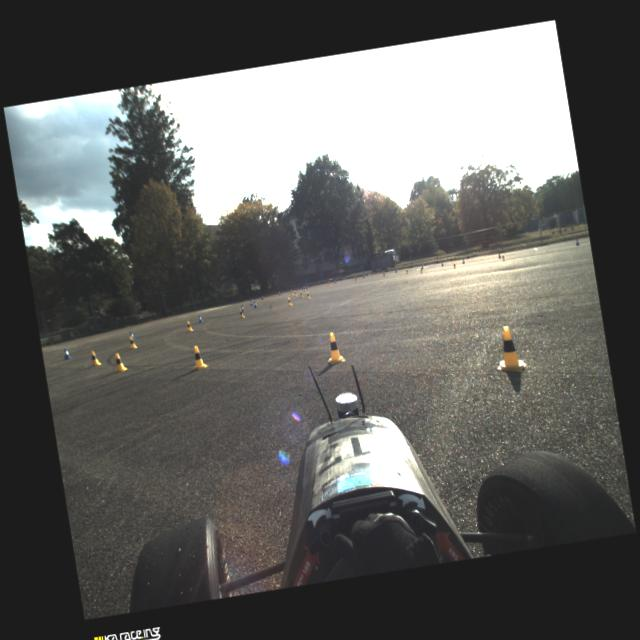blue_cone: (62, 347, 72, 359), (130, 330, 136, 341), (198, 314, 204, 323), (574, 238, 580, 246), (240, 304, 246, 312), (253, 301, 258, 308), (498, 252, 502, 258), (278, 290, 282, 296), (260, 295, 264, 300), (462, 259, 466, 264), (250, 300, 253, 306), (250, 298, 253, 304), (440, 262, 444, 266), (306, 285, 309, 290), (422, 264, 424, 269), (395, 268, 397, 273), (363, 274, 365, 278), (334, 280, 336, 284)
yellow_cone: (492, 324, 528, 375), (324, 332, 346, 365), (191, 344, 209, 370), (114, 352, 128, 372), (90, 349, 101, 366), (128, 336, 138, 350), (186, 320, 194, 332), (238, 308, 246, 318), (287, 297, 292, 306), (306, 292, 311, 300), (452, 262, 457, 270), (299, 290, 303, 298), (419, 267, 424, 273), (502, 253, 506, 260), (382, 271, 386, 277), (354, 276, 358, 282), (290, 290, 294, 296), (328, 281, 332, 286), (294, 290, 297, 296), (303, 286, 306, 292), (406, 268, 408, 274)
